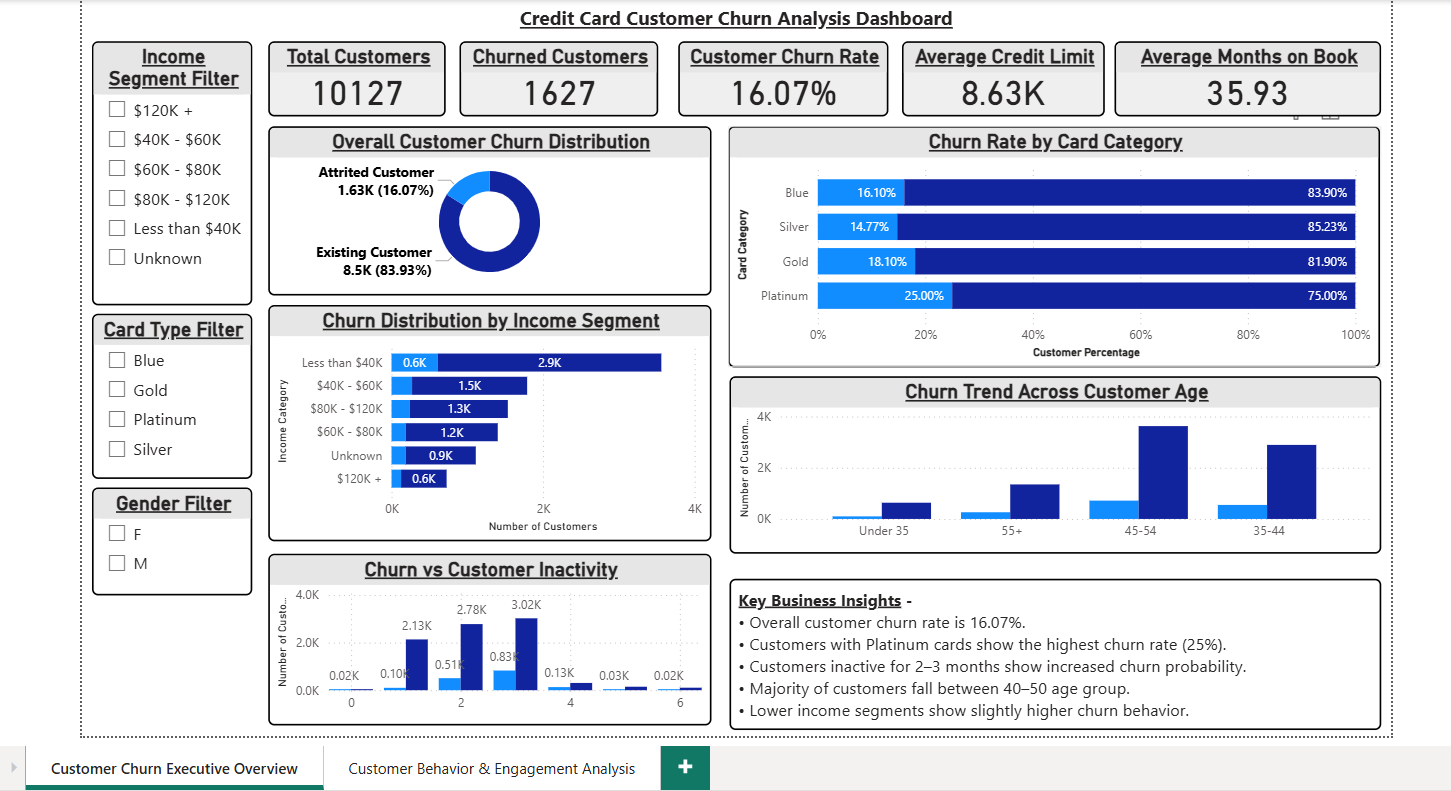

The dashboard page shown, as its layout file describes it:
{"tool":"powerbi","page":{"name":"Customer Churn Executive Overview","canvas":[1280,720],"ordinal":0},"visuals":[{"type":"slicer","title":"Income Segment Filter","fields":{"Values":["bankchurners.Income_Category"]},"box":[9.8,40.4,156.7,258.3],"z":0},{"type":"slicer","title":"Card Type Filter","fields":{"Values":["bankchurners.Card_Category"]},"box":[9.8,307.2,156.7,161.6],"z":1000},{"type":"slicer","title":"Gender Filter","fields":{"Values":["bankchurners.Gender"]},"box":[9.8,477.3,156.7,105.3],"z":2000},{"type":"donutChart","title":"Overall Customer Churn Distribution","fields":{"Category":["bankchurners.Attrition_Flag"],"Y":["CountNonNull(bankchurners.CLIENTNUM)"]},"box":[182.4,123.6,433.3,165.2],"z":3000},{"type":"hundredPercentStackedBarChart","title":"Churn Rate by Card Category","fields":{"Category":["bankchurners.Card_Category"],"Y":["CountNonNull(bankchurners.CLIENTNUM)"],"Series":["bankchurners.Attrition_Flag"]},"box":[632.8,123.6,637.7,236.2],"z":4000},{"type":"clusteredColumnChart","title":"Churn Trend Across Customer Age","fields":{"Y":["CountNonNull(bankchurners.CLIENTNUM)"],"Series":["bankchurners.Attrition_Flag"],"Category":["bankchurners.Age Group"]},"box":[634,368.4,637.7,173.8],"z":5000},{"type":"barChart","title":"Churn Distribution by Income Segment","fields":{"Category":["bankchurners.Income_Category"],"Y":["CountNonNull(bankchurners.CLIENTNUM)"],"Series":["bankchurners.Attrition_Flag"]},"box":[182.4,298.6,433.3,231.3],"z":6000},{"type":"clusteredColumnChart","title":"Churn vs Customer Inactivity","fields":{"Category":["bankchurners.Months_Inactive_12_mon"],"Y":["CountNonNull(bankchurners.CLIENTNUM)"],"Series":["bankchurners.Attrition_Flag"]},"box":[182.4,542.2,433.3,167.7],"z":7000},{"type":"card","title":"Total Customers","fields":{"Values":["bankchurners.Total Customers"]},"box":[182.4,40.4,173.8,73.4],"z":8000},{"type":"card","title":"Churned Customers","fields":{"Values":["bankchurners.Churned Customers"]},"box":[369.6,40.4,194.6,73.4],"z":9000},{"type":"card","title":"Customer Churn Rate","fields":{"Values":["bankchurners.Churn Rate"]},"box":[583.8,40.4,205.6,73.4],"z":10000},{"type":"card","title":"Average Credit Limit","fields":{"Values":["Avg(bankchurners.Credit_Limit)"]},"box":[801.7,40.4,198.3,73.4],"z":11000},{"type":"textbox","box":[9.8,0,1260.7,40.4],"z":12000},{"type":"textbox","box":[634,566.7,637.7,148.1],"z":13000},{"type":"card","title":"Average Months on Book","fields":{"Values":["Avg(bankchurners.Months_on_book)"]},"box":[1009.8,40.4,260.7,73.4],"z":14000}]}

Visuals, with their boxes on the page's 1280x720 design canvas (x1, y1, x2, y2). These are canvas units, not pixel positions in the 1451x791 screenshot, which may show the page scaled, cropped or inside an application window:
"Income Segment Filter" slicer: (10,40,166,299)
"Card Type Filter" slicer: (10,307,166,469)
"Gender Filter" slicer: (10,477,166,583)
"Overall Customer Churn Distribution" donutChart: (182,124,616,289)
"Churn Rate by Card Category" hundredPercentStackedBarChart: (633,124,1270,360)
"Churn Trend Across Customer Age" clusteredColumnChart: (634,368,1272,542)
"Churn Distribution by Income Segment" barChart: (182,299,616,530)
"Churn vs Customer Inactivity" clusteredColumnChart: (182,542,616,710)
"Total Customers" card: (182,40,356,114)
"Churned Customers" card: (370,40,564,114)
"Customer Churn Rate" card: (584,40,789,114)
"Average Credit Limit" card: (802,40,1000,114)
textbox: (10,0,1270,40)
textbox: (634,567,1272,715)
"Average Months on Book" card: (1010,40,1270,114)
